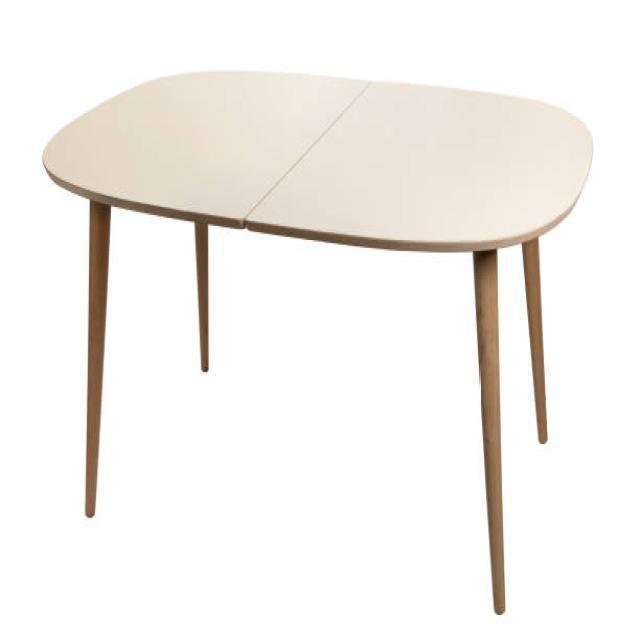table: (41, 66, 593, 614)
